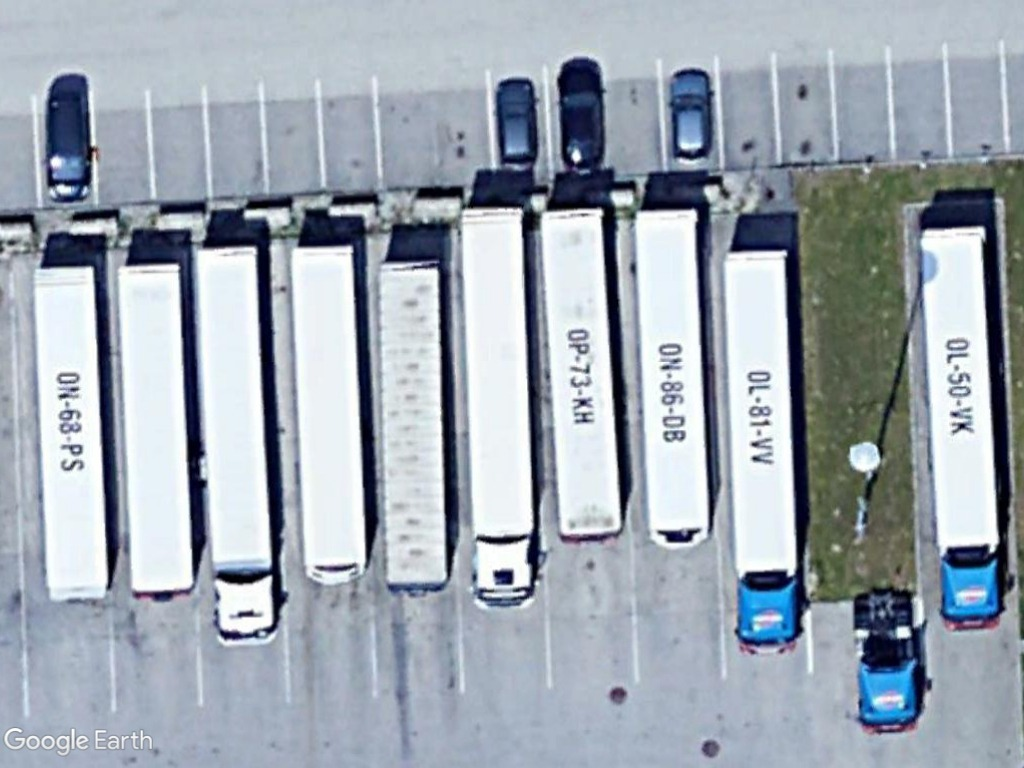car: (554, 65, 609, 174), (665, 65, 715, 166), (495, 76, 542, 171)
longvehicle: (189, 239, 288, 648), (714, 245, 812, 658), (915, 218, 1008, 633), (454, 205, 547, 611)
van: (43, 87, 95, 203)
